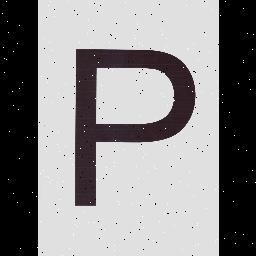p: (64, 40, 200, 218)
